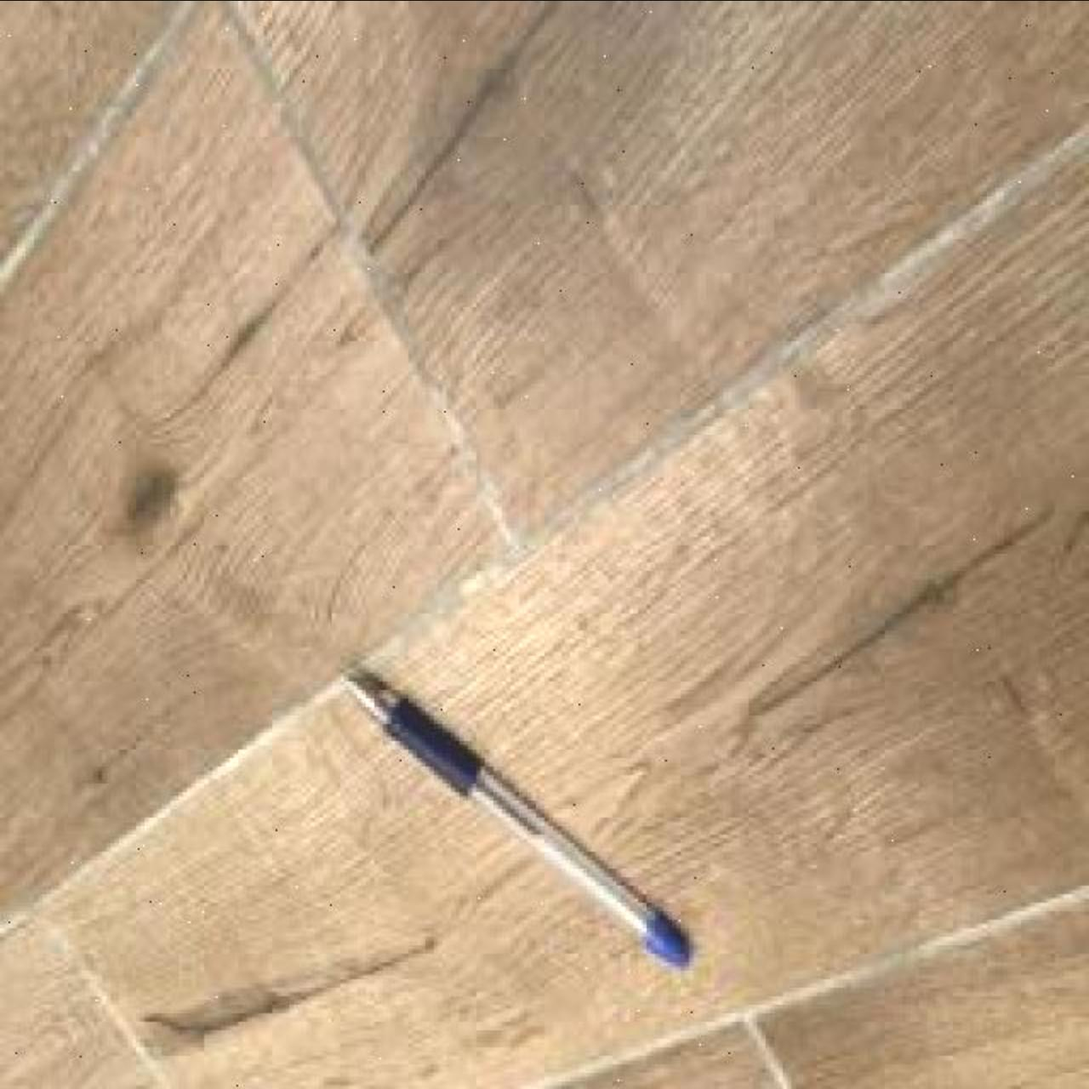pen: (340, 667, 694, 970)
